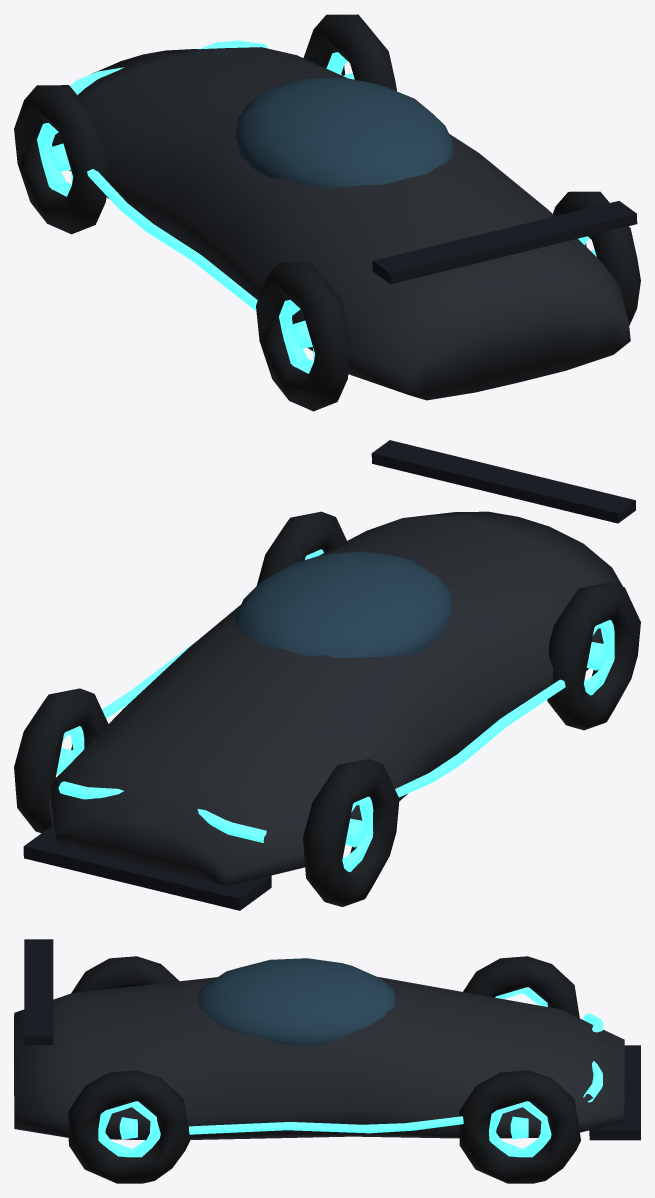
File: Rival01_Wedge_LOD2.fbx
3 views of the same model, one above another, from view 1: azimuth 30°, elevation 25°; view 2: azimuth 150°, elevation 25°; view 3: azimuth 270°, elevation 25° (orthographic). The views are drawn at different scales.
Visible parts, largest first — view 1: Rival01_Wedge_Body_LOD2, Rival01_Wedge_Wheel_RL_LOD2, Rival01_Wedge_Wheel_FL_LOD2, Rival01_Wedge_Wheel_FR_LOD2, Rival01_Wedge_Wheel_RR_LOD2; view 2: Rival01_Wedge_Body_LOD2, Rival01_Wedge_Wheel_FL_LOD2, Rival01_Wedge_Wheel_RL_LOD2, Rival01_Wedge_Wheel_FR_LOD2, Rival01_Wedge_Wheel_RR_LOD2; view 3: Rival01_Wedge_Body_LOD2, Rival01_Wedge_Wheel_RR_LOD2, Rival01_Wedge_Wheel_FR_LOD2, Rival01_Wedge_Wheel_FL_LOD2, Rival01_Wedge_Wheel_RL_LOD2.
Boxes of the visible parts, box(x1,y1,x2,y2) form: Rival01_Wedge_Body_LOD2: box(52, 40, 637, 400); Rival01_Wedge_Wheel_RL_LOD2: box(256, 262, 349, 411); Rival01_Wedge_Wheel_FL_LOD2: box(14, 85, 107, 234); Rival01_Wedge_Wheel_FR_LOD2: box(303, 14, 396, 91); Rival01_Wedge_Wheel_RR_LOD2: box(553, 191, 640, 325); Rival01_Wedge_Body_LOD2: box(23, 440, 635, 910); Rival01_Wedge_Wheel_FL_LOD2: box(303, 759, 399, 906); Rival01_Wedge_Wheel_RL_LOD2: box(547, 582, 640, 730); Rival01_Wedge_Wheel_FR_LOD2: box(14, 688, 108, 833); Rival01_Wedge_Wheel_RR_LOD2: box(256, 511, 346, 585); Rival01_Wedge_Body_LOD2: box(14, 939, 640, 1140); Rival01_Wedge_Wheel_RR_LOD2: box(68, 1070, 190, 1183); Rival01_Wedge_Wheel_FR_LOD2: box(459, 1070, 580, 1183); Rival01_Wedge_Wheel_FL_LOD2: box(463, 956, 579, 1018); Rival01_Wedge_Wheel_RL_LOD2: box(71, 956, 179, 993).
Bounding box in the file's own units: 2.15 × 1.21 × 4.46.
